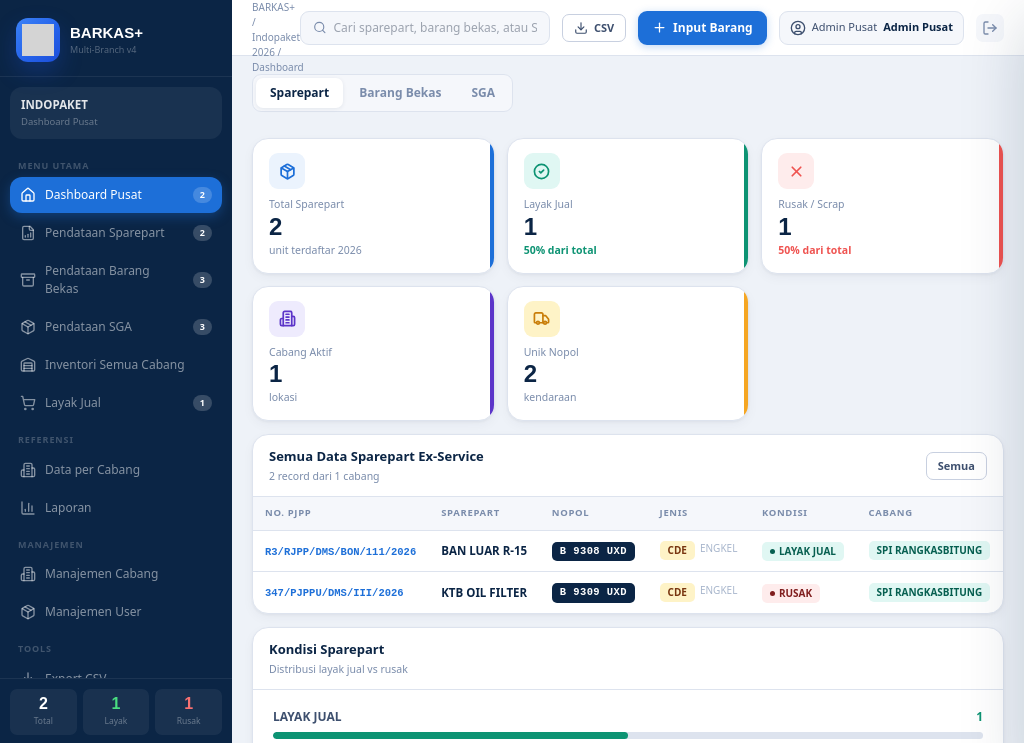
Scenario: BarkasApp v3 UI › opens the sparepart modal from the chooser
Click the button "Input Barang". click: (702, 28)
box: [638, 10, 767, 44]
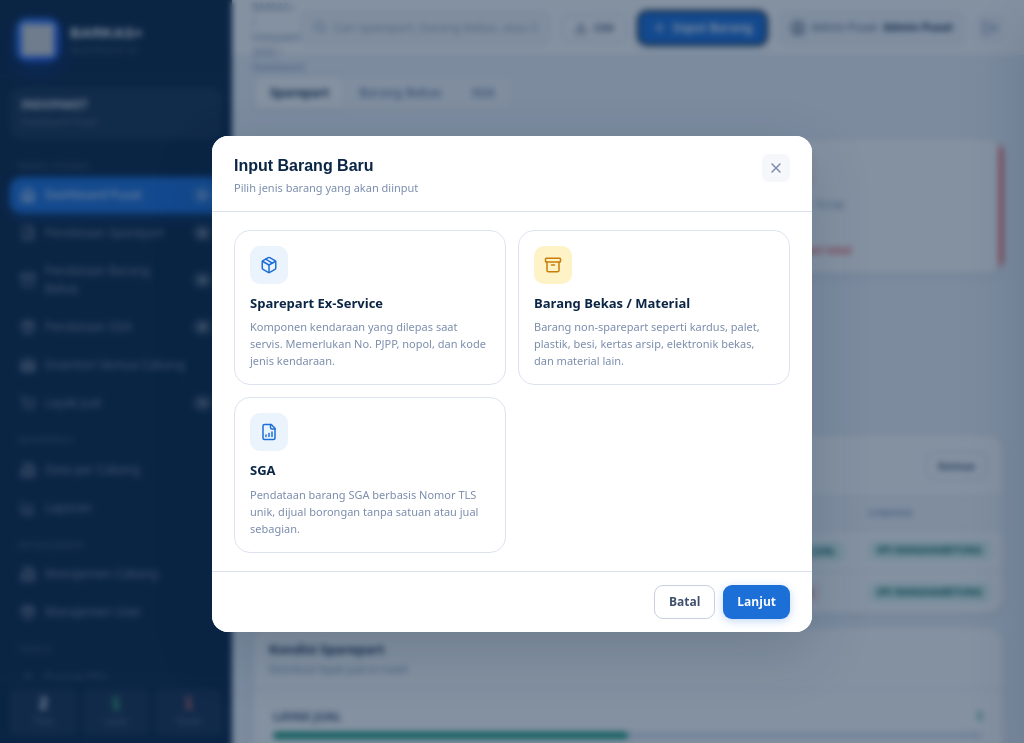
Click the text "Sparepart Ex-Service". click: (316, 303)
box: [250, 294, 383, 312]
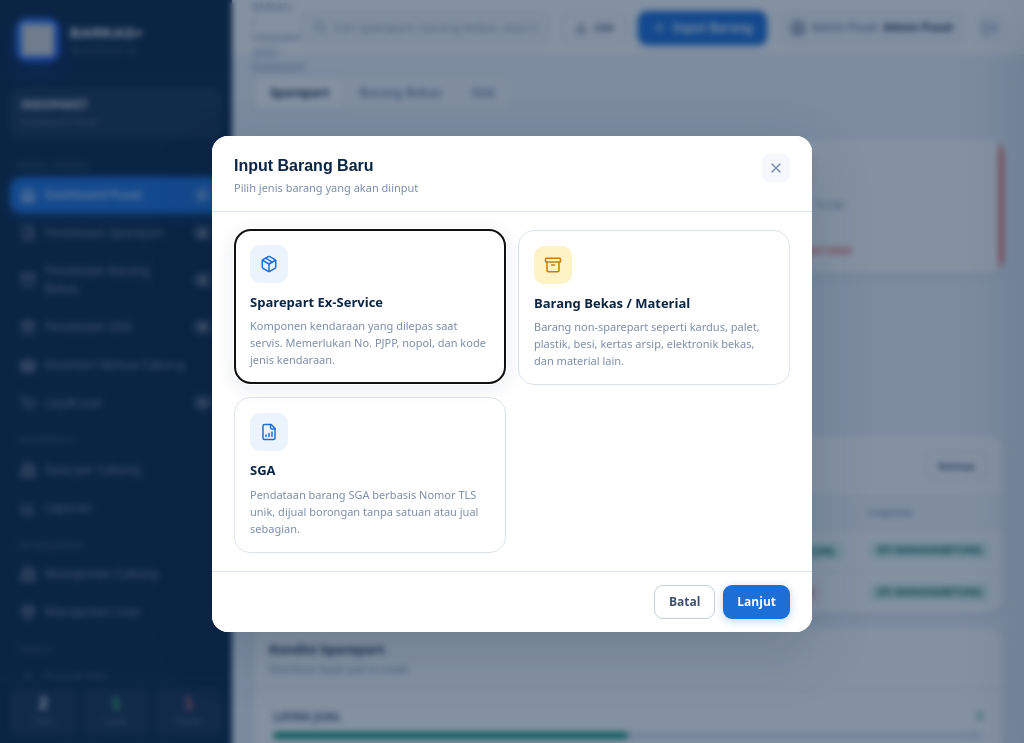
Click the button "Lanjut". click: (757, 602)
box: [723, 585, 790, 619]
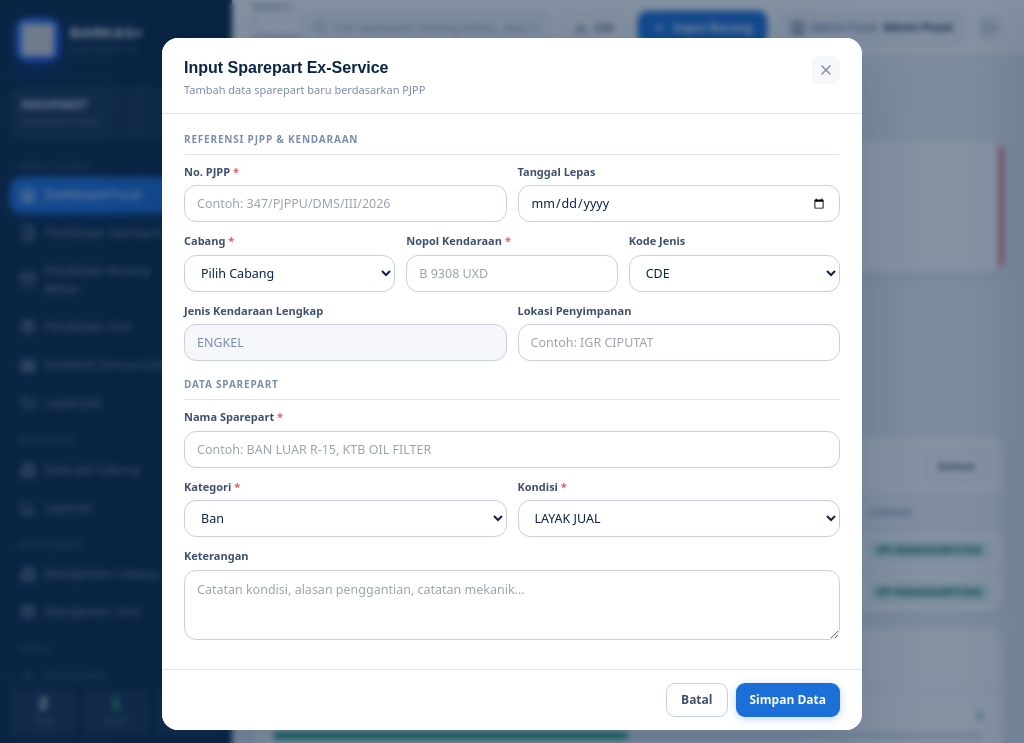
Now the text "Input Sparepart Ex-Service" is shown, box [184, 59, 388, 76]
